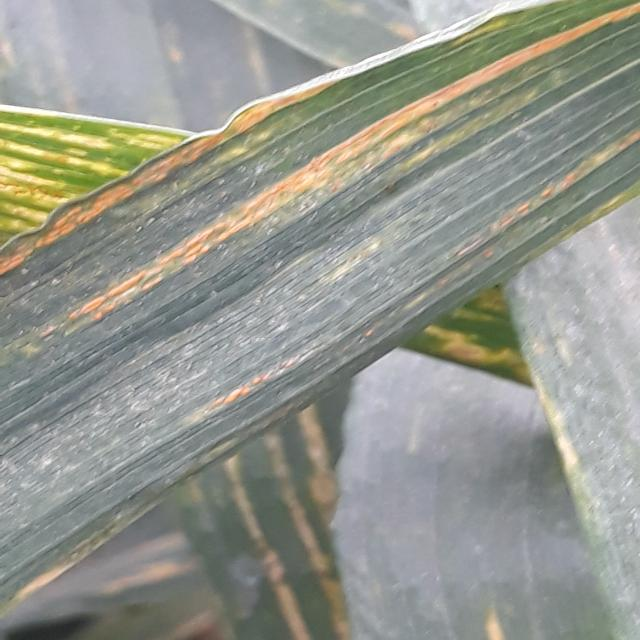yellow_rust: (2, 4, 637, 447), (168, 384, 380, 640), (0, 107, 188, 268), (8, 483, 151, 632), (397, 271, 548, 411)
